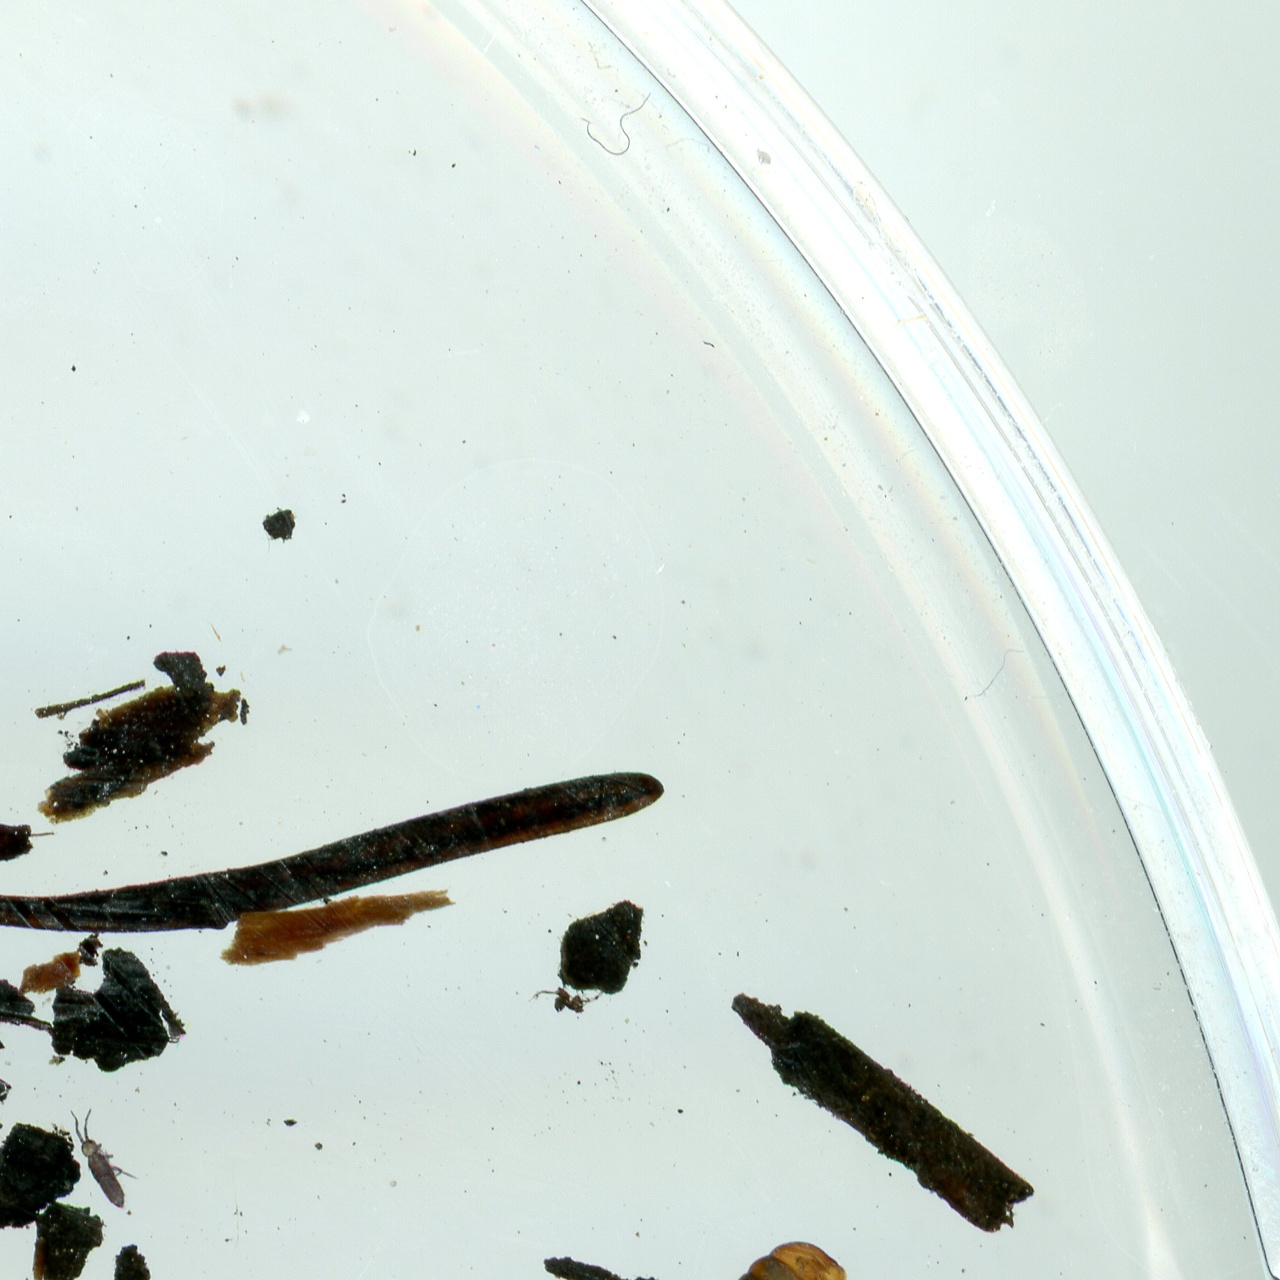arthropod: (53, 1087, 158, 1230), (724, 1237, 853, 1280)
